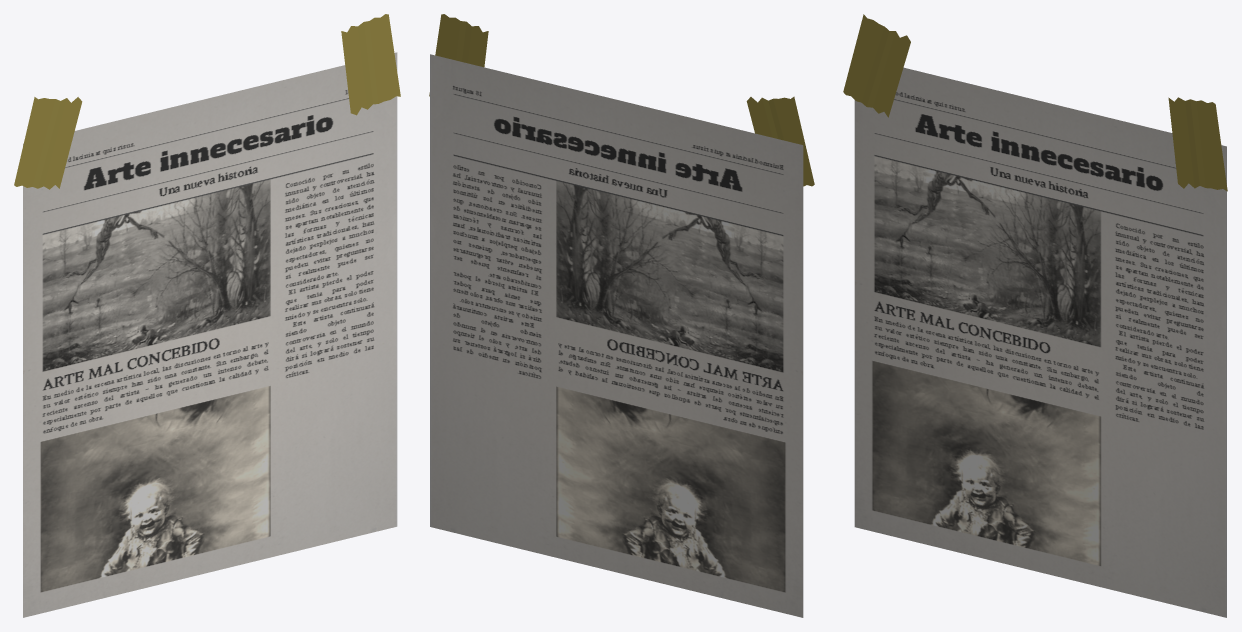
File: Diario7.fbx
3 renders of one model, left to right at view 1: azimuth 30°, elevation 25°; view 2: azimuth 150°, elevation 25°; view 3: azimuth 330°, elevation 25°, orthographic.
Parts seen in each view (by area): view 1: Plane.005, Plane.001, Plane.002; view 2: Plane.005, Plane.002, Plane.001; view 3: Plane.005, Plane.001, Plane.002.
Part boxes in pixels (<box>): Plane.005: <box>23,52,397,617</box>; Plane.001: <box>341,14,400,115</box>; Plane.002: <box>14,97,82,189</box>; Plane.005: <box>430,54,803,617</box>; Plane.002: <box>746,96,814,186</box>; Plane.001: <box>429,14,488,96</box>; Plane.005: <box>854,67,1226,617</box>; Plane.001: <box>1168,97,1227,191</box>; Plane.002: <box>843,14,910,117</box>.
Size of the model in its own units: 226 by 290 by 1.55.
Materials: 3 (1 with a texture image).
